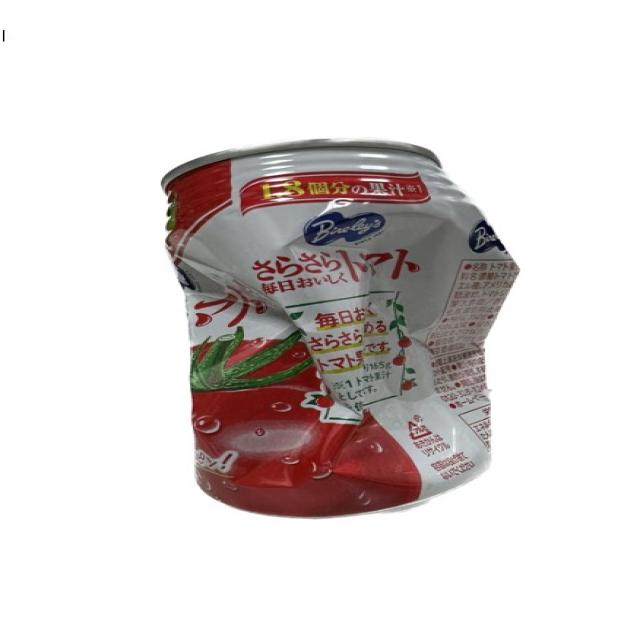Can: (163, 141, 515, 511)
